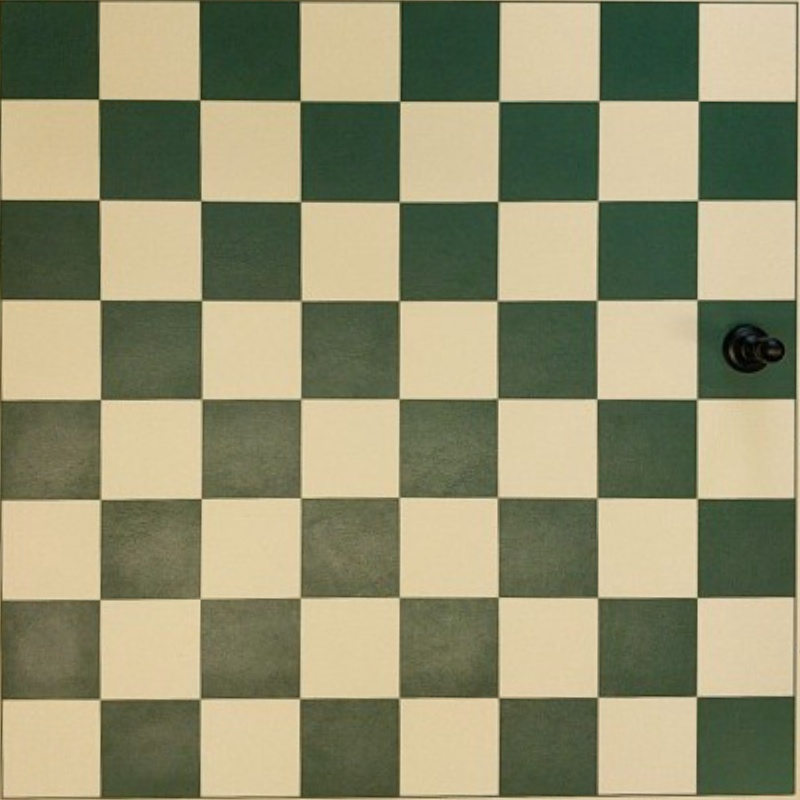black-pawn: (724, 323, 786, 373)
